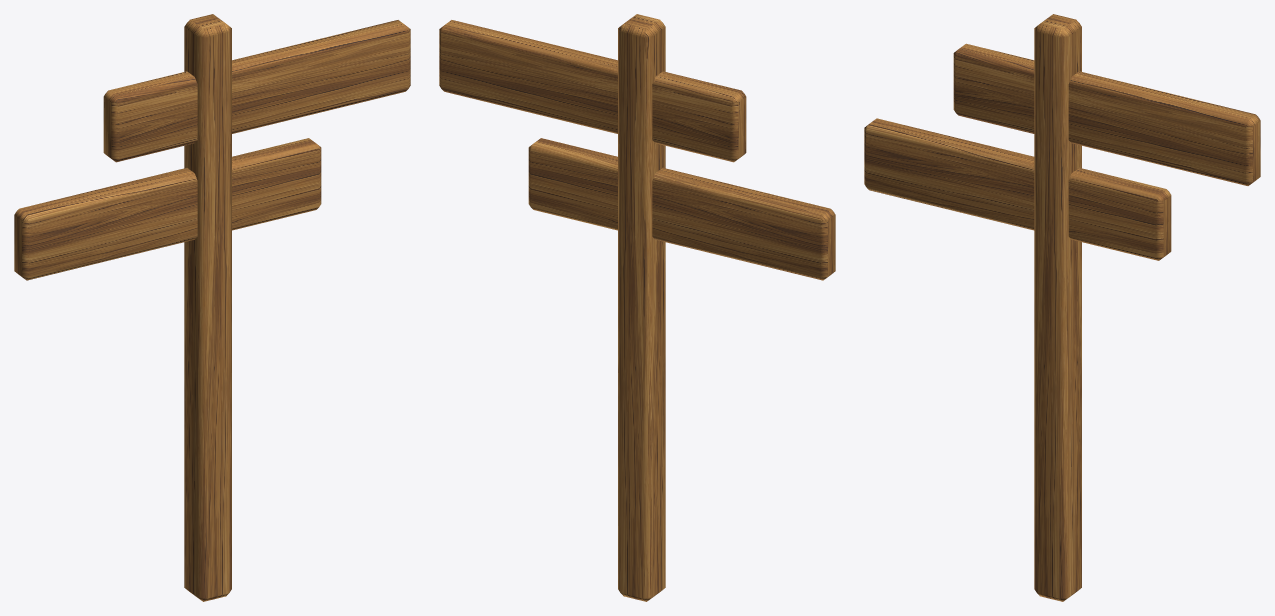
Rendered from 15_Senal_Blanca.obj.
3 views of the same model, side by side, from view 1: azimuth 30°, elevation 25°; view 2: azimuth 150°, elevation 25°; view 3: azimuth 330°, elevation 25° (orthographic).
Visible parts, largest first — view 1: 15_Senal_Blanca_Wood; view 2: 15_Senal_Blanca_Wood; view 3: 15_Senal_Blanca_Wood.
Boxes of the visible parts, x1,y1,x2,y2 form: 15_Senal_Blanca_Wood: (14,14,410,601); 15_Senal_Blanca_Wood: (439,14,835,601); 15_Senal_Blanca_Wood: (864,14,1260,601).
Size of the model in its own units: 1.35 by 1.9 by 0.12.
Materials: 1 (1 with a texture image).
